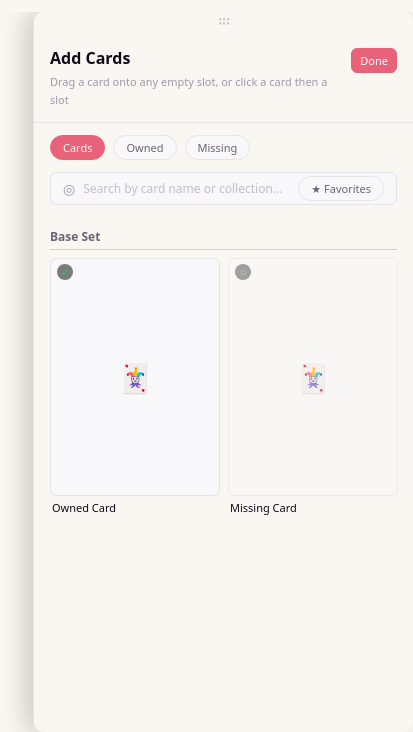
Test: AddCardsPanel — ownership tabs › the Missing tab shows only unowned cards
Click the tab "Missing" at (217, 148), box left=184, top=135, right=250, bottom=160
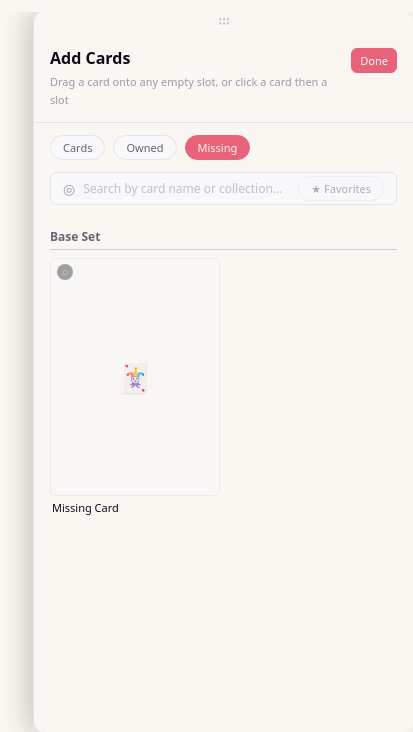
Expected: the text "Missing Card" is shown, left=52, top=500, right=119, bottom=515
Result: the button "Owned Card" is gone
